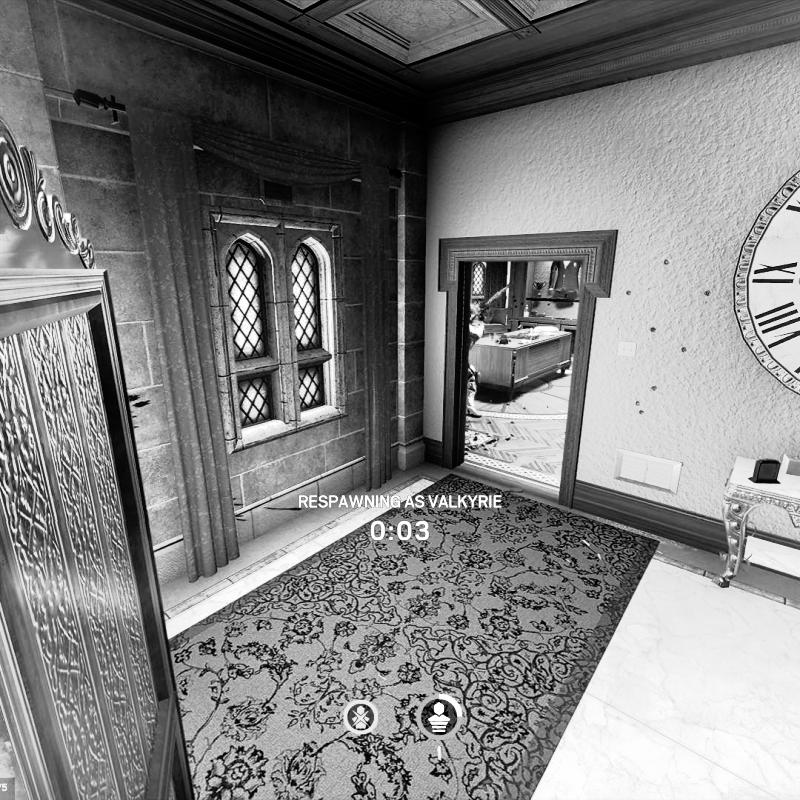Character: (464, 302, 488, 420)
Head: (469, 305, 480, 320)
